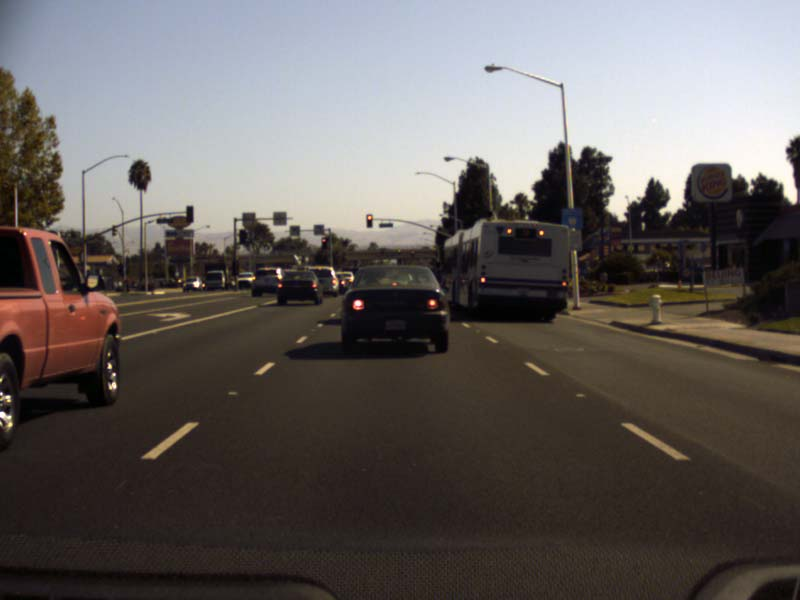Red: (365, 214, 373, 227), (321, 237, 327, 249), (410, 250, 414, 256), (397, 249, 400, 254)
